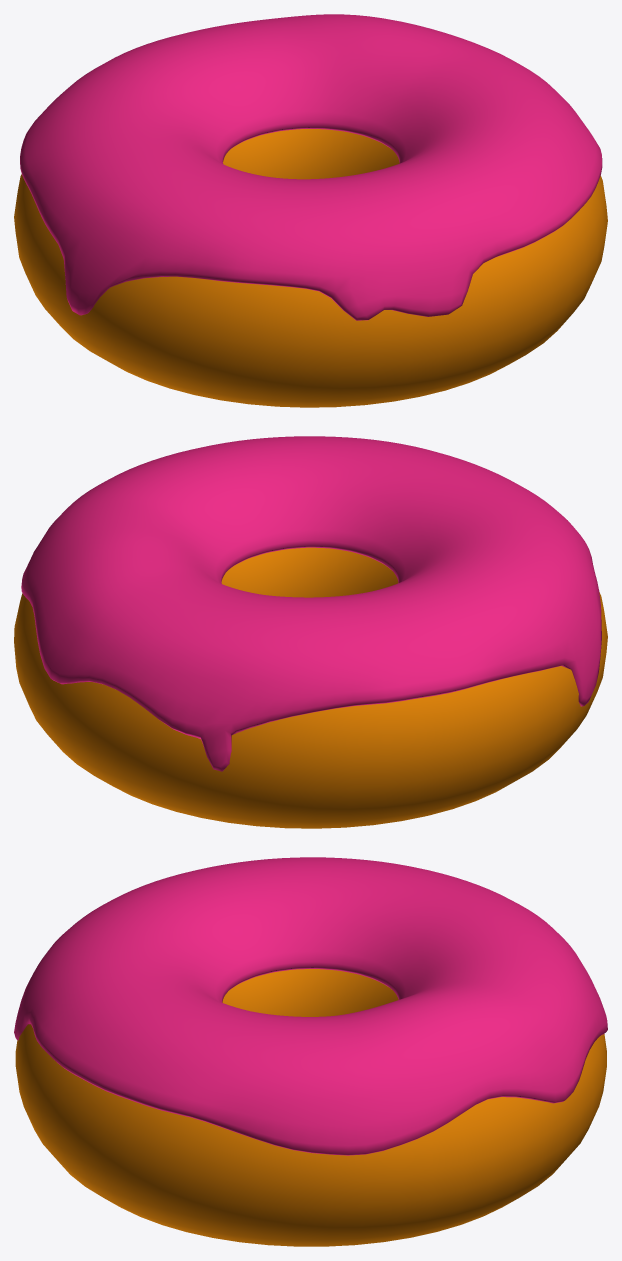
File: Donut.fbx
The picture shows the model from 3 angles, top to bottom: view 1: azimuth 30°, elevation 25°; view 2: azimuth 150°, elevation 25°; view 3: azimuth 270°, elevation 25°; orthographic projection.
Parts seen in each view (by area): view 1: icing.002, base.002; view 2: icing.002, base.002; view 3: icing.002, base.002.
Part boxes in pixels (<box>): icing.002: <box>20,14,602,320</box>; base.002: <box>14,129,607,407</box>; icing.002: <box>21,436,601,771</box>; base.002: <box>14,547,607,828</box>; icing.002: <box>14,857,607,1155</box>; base.002: <box>15,969,606,1246</box>.
Bounding box in the file's own units: 15.6 × 6.27 × 15.62.
